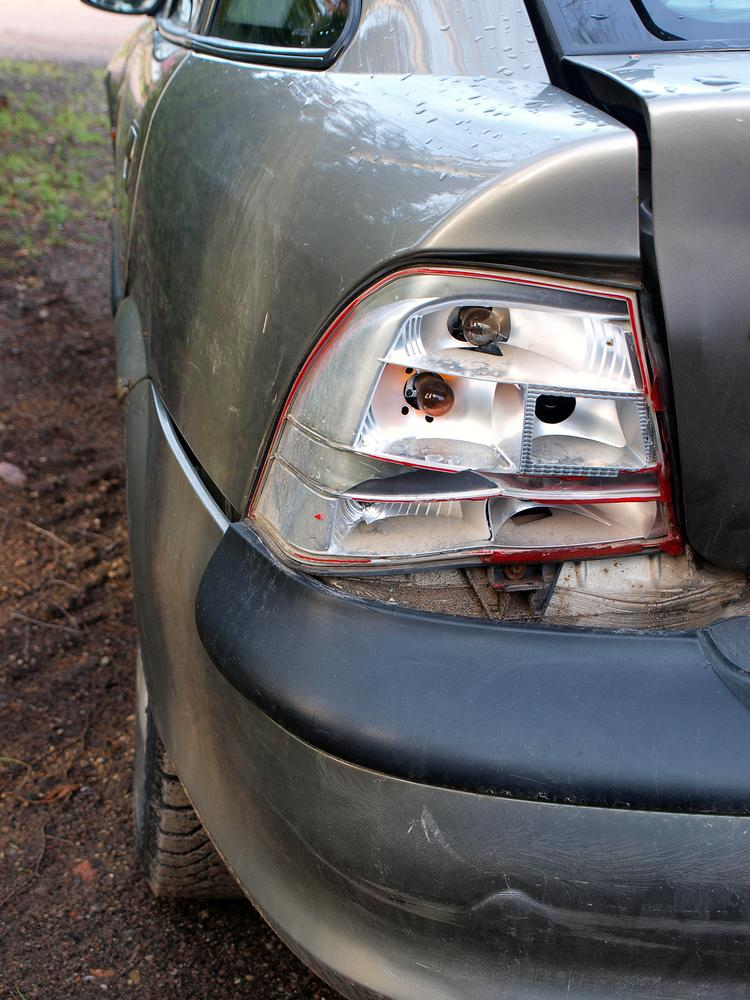lamp broken: (243, 259, 679, 577)
